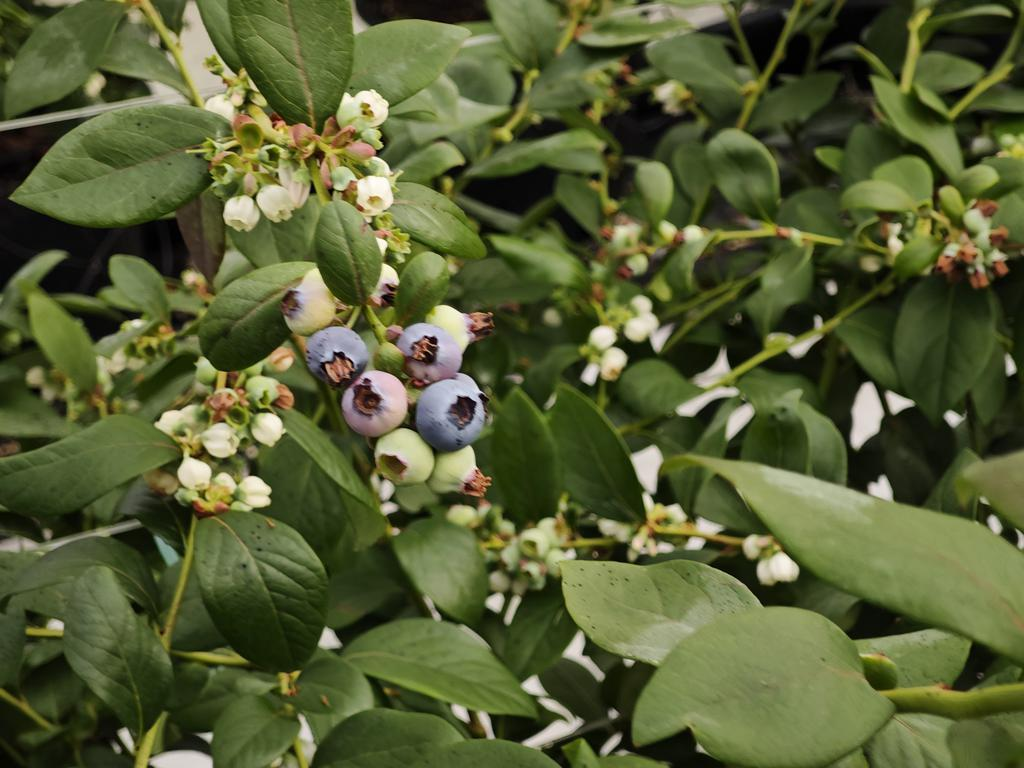RipeBlueBerry: (417, 380, 488, 449), (305, 328, 368, 387)
Semi-RipeBlueBerry: (340, 372, 406, 435), (399, 324, 461, 381)
UnripeBlueBerry: (374, 427, 435, 486), (429, 445, 478, 498)
